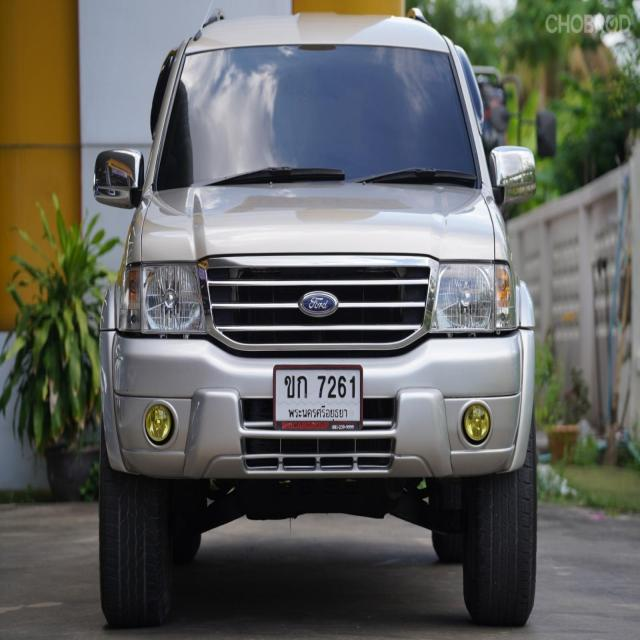license_plate: (274, 363, 364, 436)
